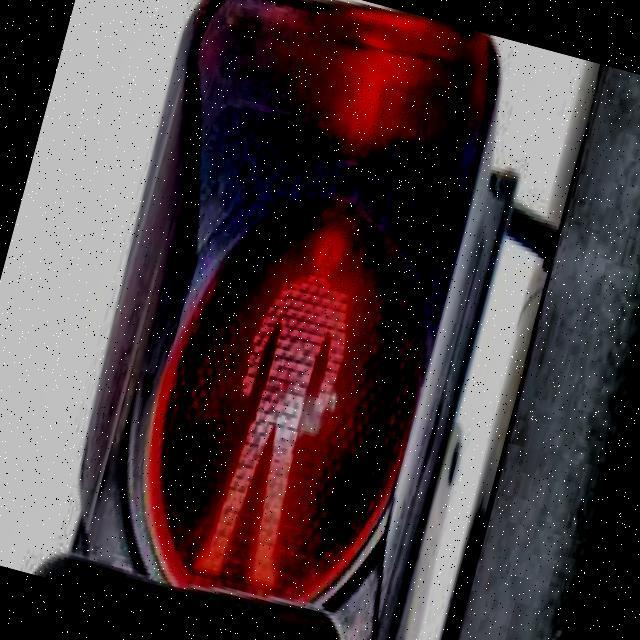red_light: (182, 208, 380, 598)
